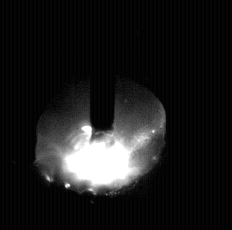arame: (91, 0, 115, 141)
poca: (35, 0, 166, 230)
